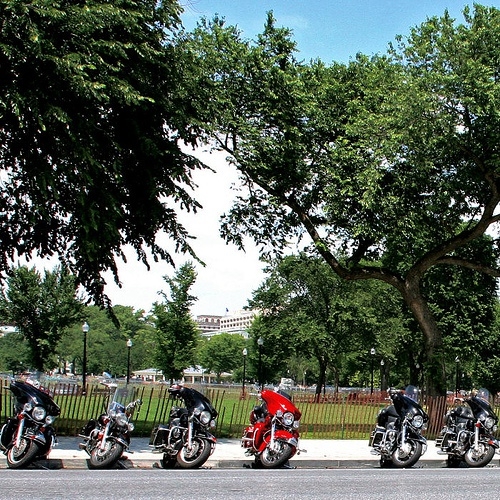non-vehicle: (0, 377, 67, 469), (150, 383, 220, 470), (76, 381, 143, 468), (434, 386, 499, 468), (368, 383, 430, 468), (240, 388, 301, 470)
